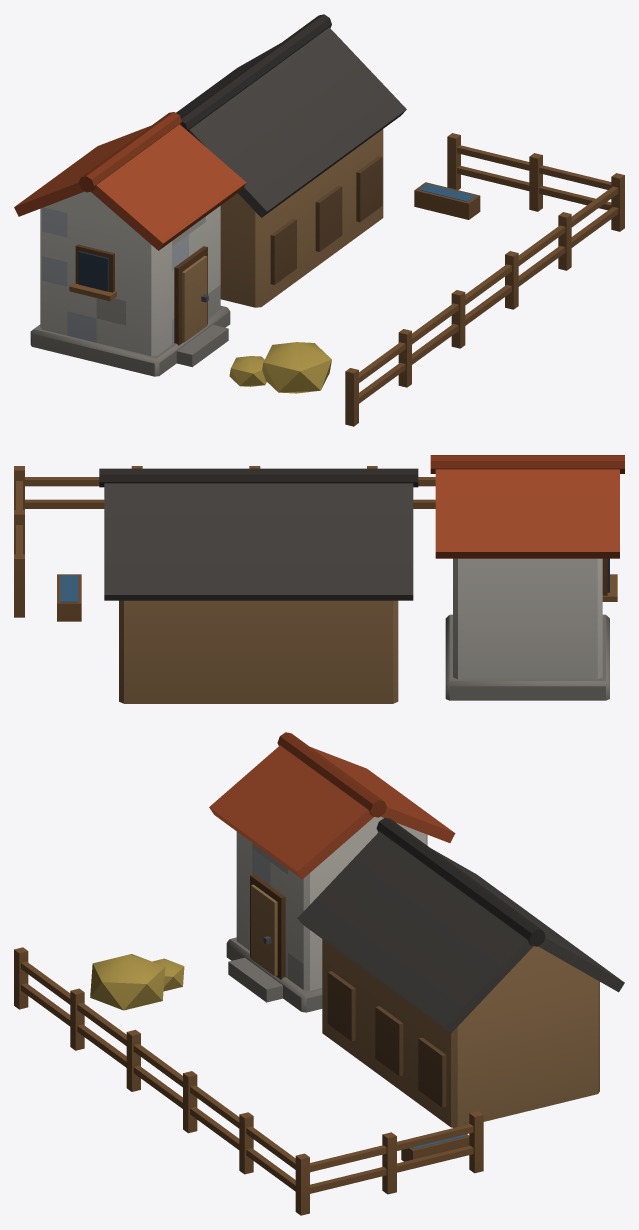
File: building_27.glb
3 renders of one model, top to bottom at view 1: azimuth 30°, elevation 25°; view 2: azimuth 150°, elevation 25°; view 3: azimuth 270°, elevation 25°, orthographic. The views are drawn at different scales.
Visible parts, largest first — view 1: building_27; view 2: building_27; view 3: building_27.
Part boxes in pixels (box(x1,y1,x2,y2)): building_27: box(14, 14, 624, 426); building_27: box(14, 455, 624, 703); building_27: box(14, 732, 624, 1215).
Bounding box in the file's own units: 1.48 × 0.479 × 1.28.
